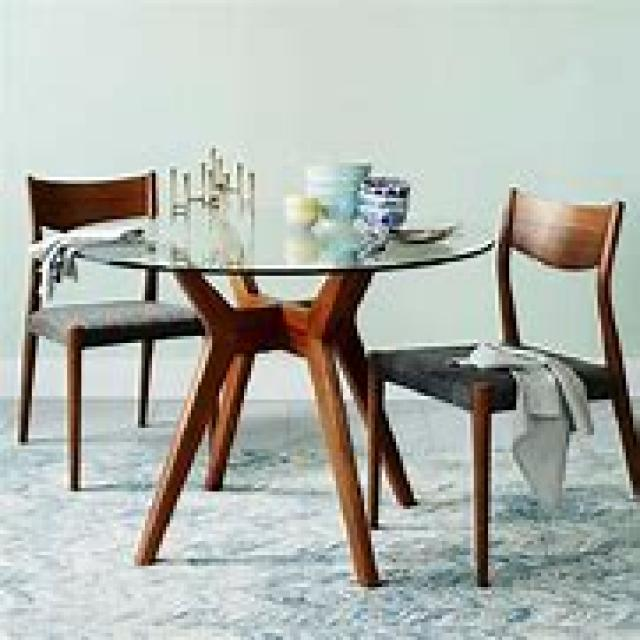chair: (364, 184, 637, 587), (14, 166, 223, 492)
table: (57, 202, 495, 584)
